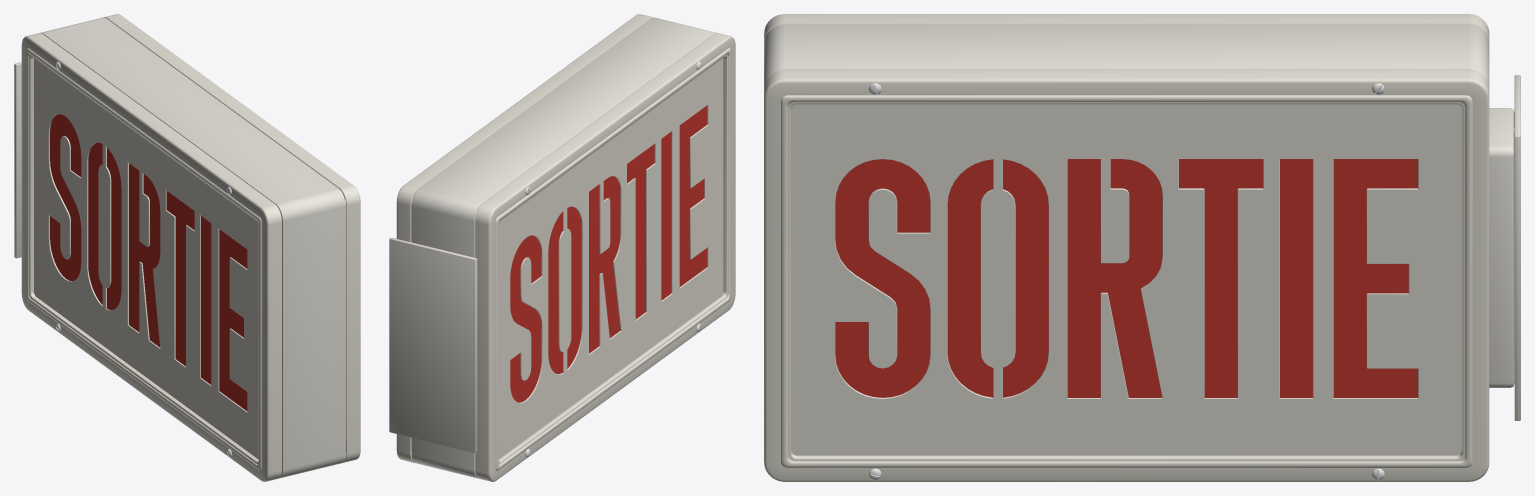
Rendered from Kit_ExitSign_End.fbx.
3 views of the same model, side by side, from view 1: azimuth 30°, elevation 25°; view 2: azimuth 150°, elevation 25°; view 3: azimuth 270°, elevation 25° (orthographic). The views are drawn at different scales.
Visible parts, largest first — view 1: Kit_ExitSign_End_LOD0; view 2: Kit_ExitSign_End_LOD0; view 3: Kit_ExitSign_End_LOD0.
Part boxes in pixels (bbox=[...]): Kit_ExitSign_End_LOD0: bbox=[14, 14, 360, 481]; Kit_ExitSign_End_LOD0: bbox=[389, 14, 735, 481]; Kit_ExitSign_End_LOD0: bbox=[764, 14, 1520, 481].
Size of what is drawn, in the model's own units: 0.0789 by 0.212 by 0.361.
